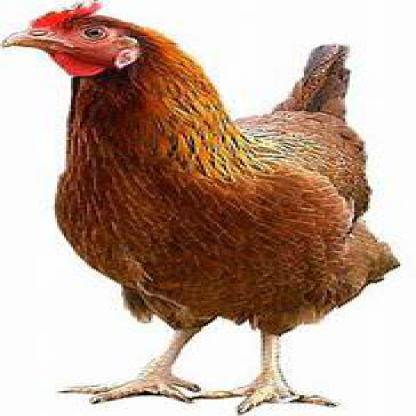chicken: (5, 0, 398, 409)
